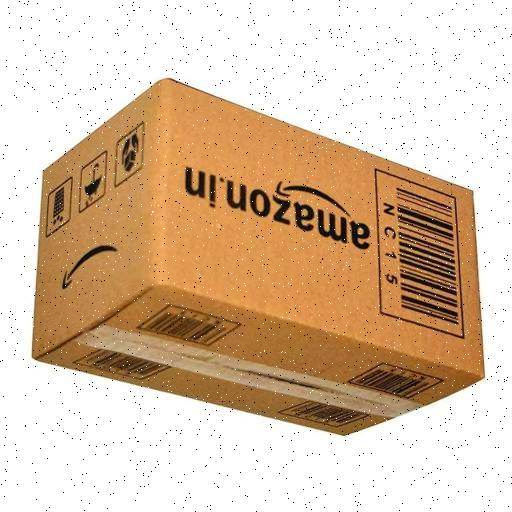Amazon: (33, 77, 491, 435)
